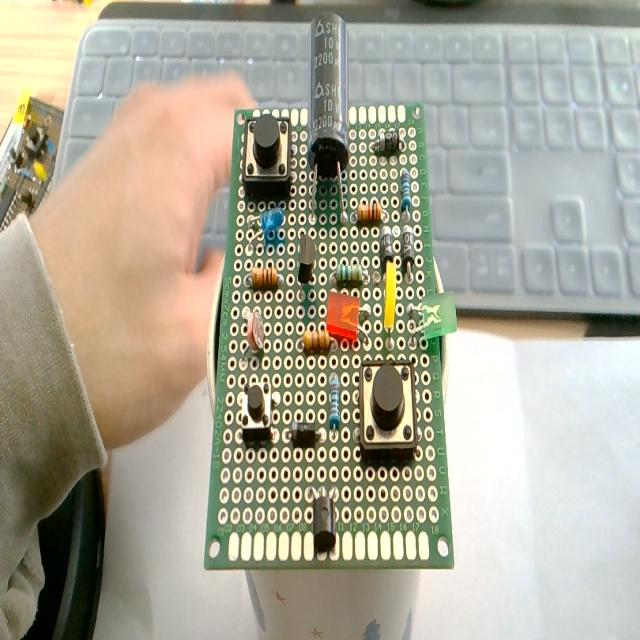Electrolytic capacitor: (306, 16, 349, 223)
cds: (227, 310, 267, 366)
diode: (282, 417, 326, 451), (401, 227, 415, 276), (379, 226, 394, 271), (376, 129, 400, 154)
led: (404, 286, 456, 344), (326, 289, 360, 344), (244, 205, 284, 251), (382, 263, 397, 349)
resistor: (328, 372, 341, 432), (303, 328, 331, 352), (252, 266, 280, 290), (335, 263, 361, 284), (358, 202, 381, 224), (401, 168, 411, 211)
switch: (358, 360, 418, 461), (242, 113, 292, 199), (237, 379, 274, 444)
transistor: (309, 486, 338, 553), (298, 234, 316, 283)
